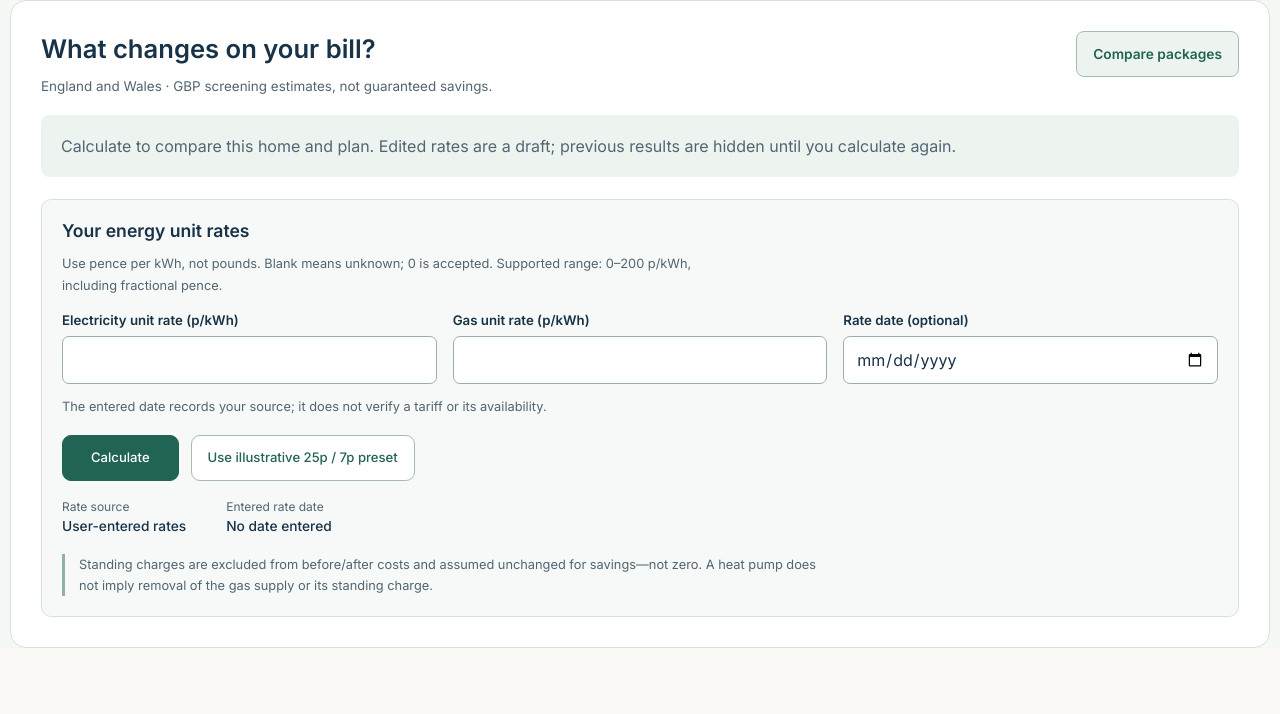
Dashboard money and shared Costs & packages › labels partial results without inventing a total or monthly amount
Type "25" into the field labelled "Electricity unit rate (p/kWh)" at (249, 360), box [62,336,437,384]
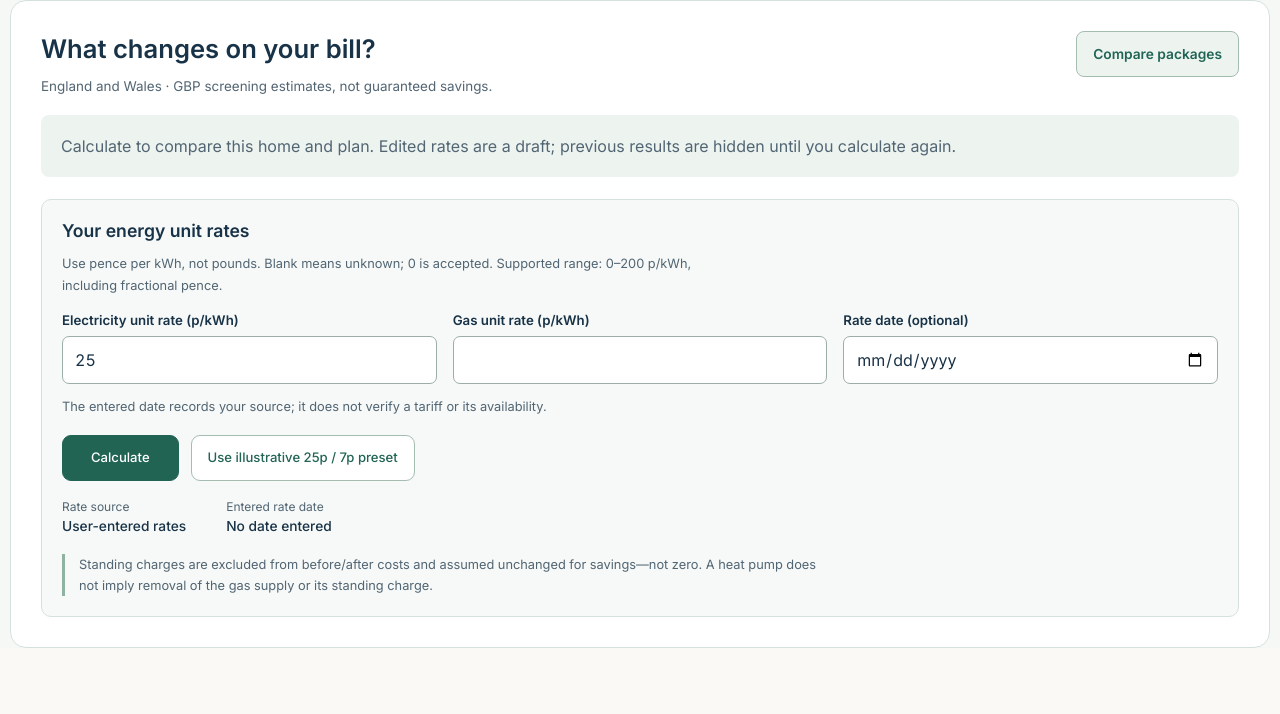
Click the button "Calculate" at (120, 458), box [62,435,179,481]
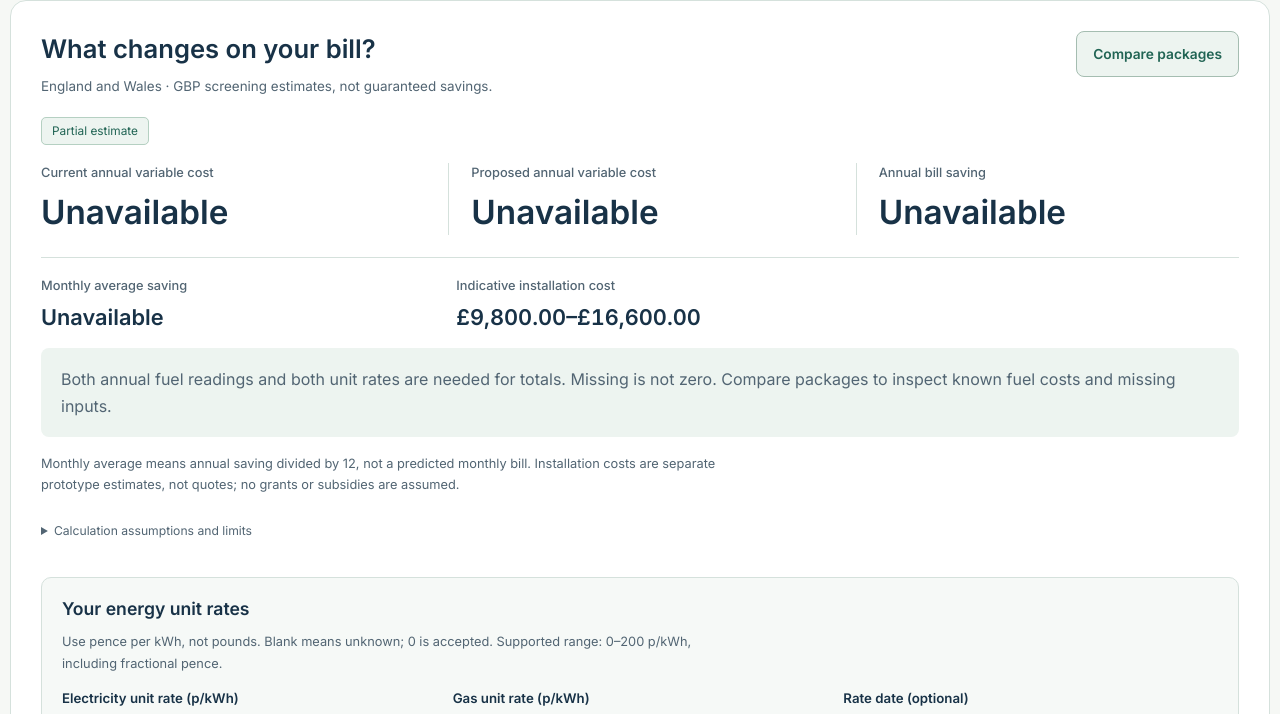
Expected: the text "Partial estimate" is shown, [41,117,149,145]
Expected: the text "Unavailable" below "Monthly average saving" is shown, [41,304,164,330]
Expected: the text "missing is not zero" is shown, [61,369,1176,416]
